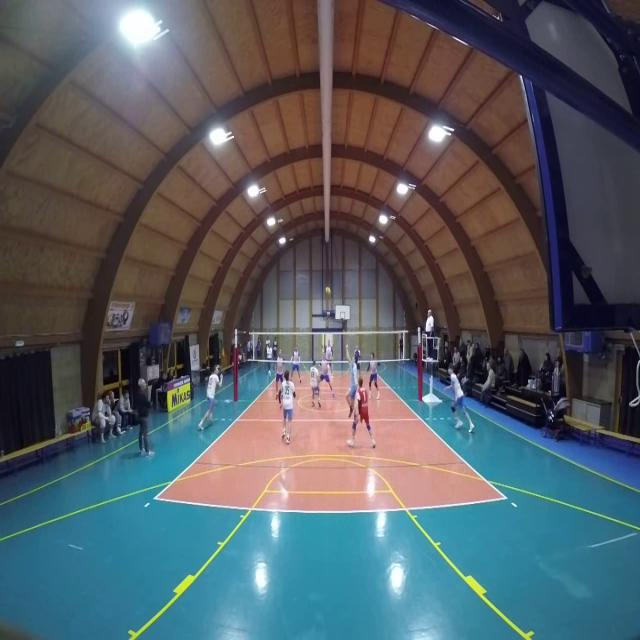Volleyball: (324, 284, 330, 298)
